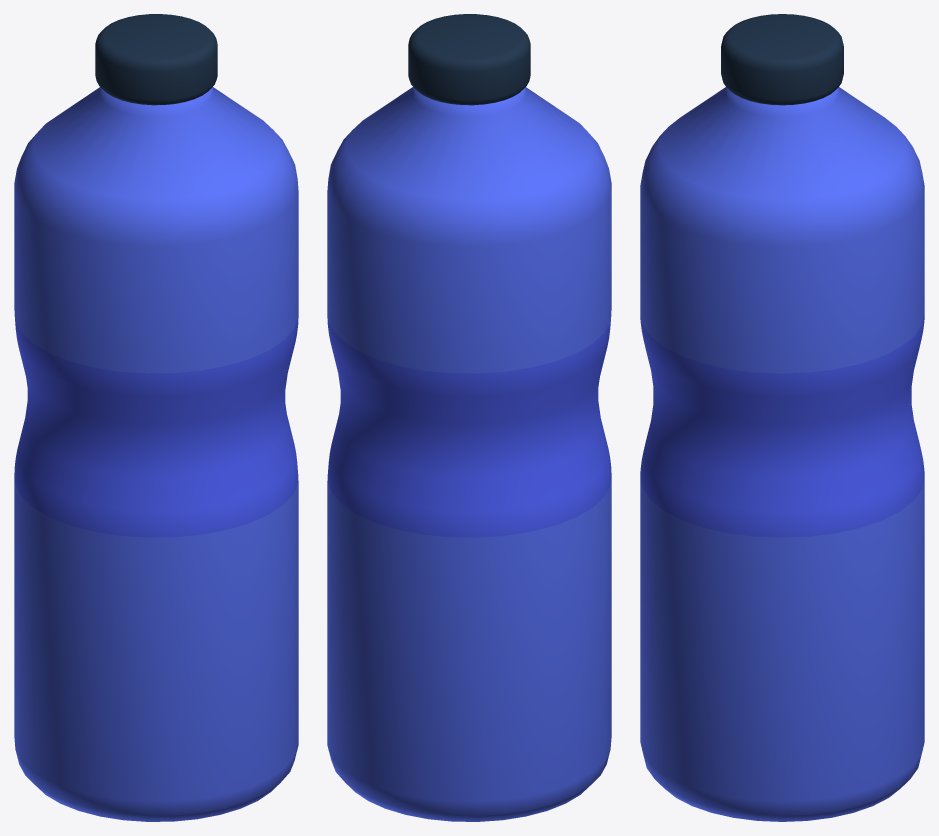
The model's file is Bottle.fbx.
3 views of the same model, side by side, from view 1: azimuth 30°, elevation 25°; view 2: azimuth 150°, elevation 25°; view 3: azimuth 270°, elevation 25° (orthographic).
Parts seen in each view (by area): view 1: Cylinder; view 2: Cylinder; view 3: Cylinder.
Part boxes in pixels (x1=…): Cylinder: x1=14, y1=14, x2=298, y2=821; Cylinder: x1=327, y1=14, x2=611, y2=821; Cylinder: x1=640, y1=14, x2=924, y2=821.
Size of the model in its own units: 200 by 570 by 200.
